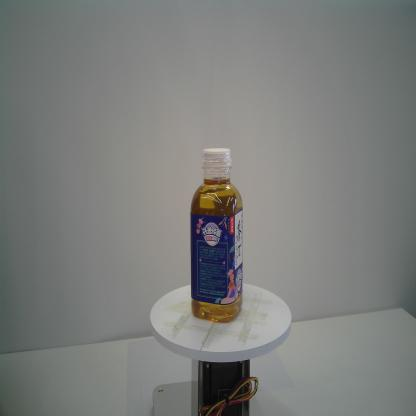Drink: (190, 146, 243, 323)
